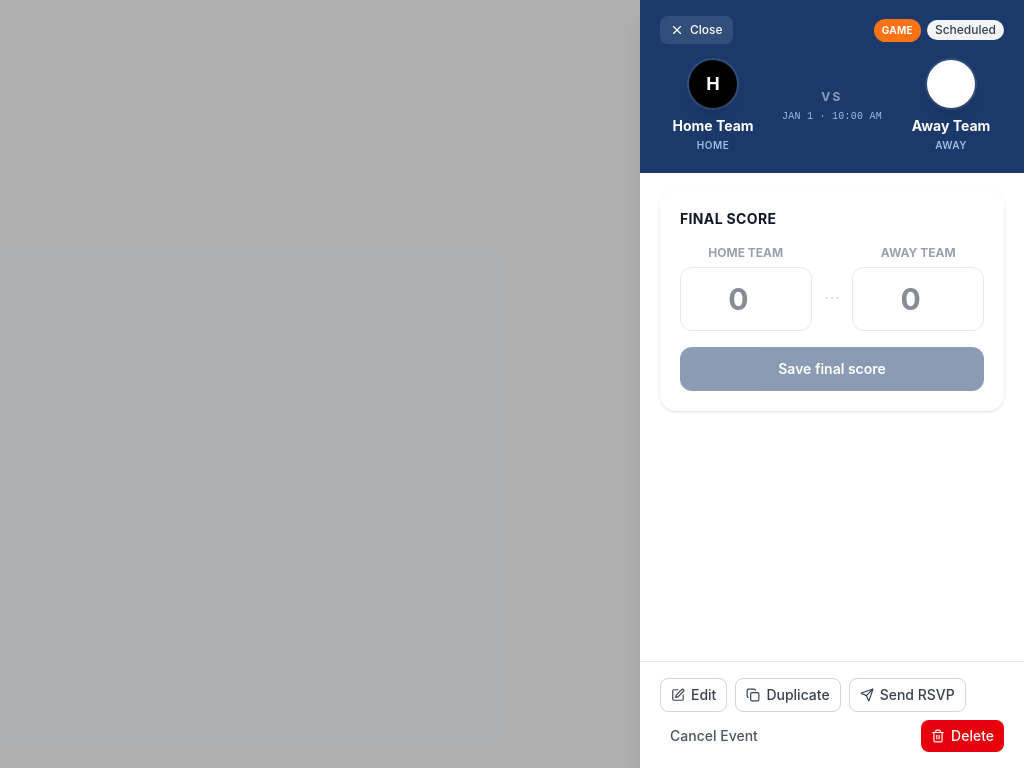
EventDetailPanel — recordResult error states › Save Score button is enabled once both score fields are filled
The image size is (1024, 768).
In the 1st number field with placeholder "0": (746, 299) left=680, top=267, right=812, bottom=331, type "2"
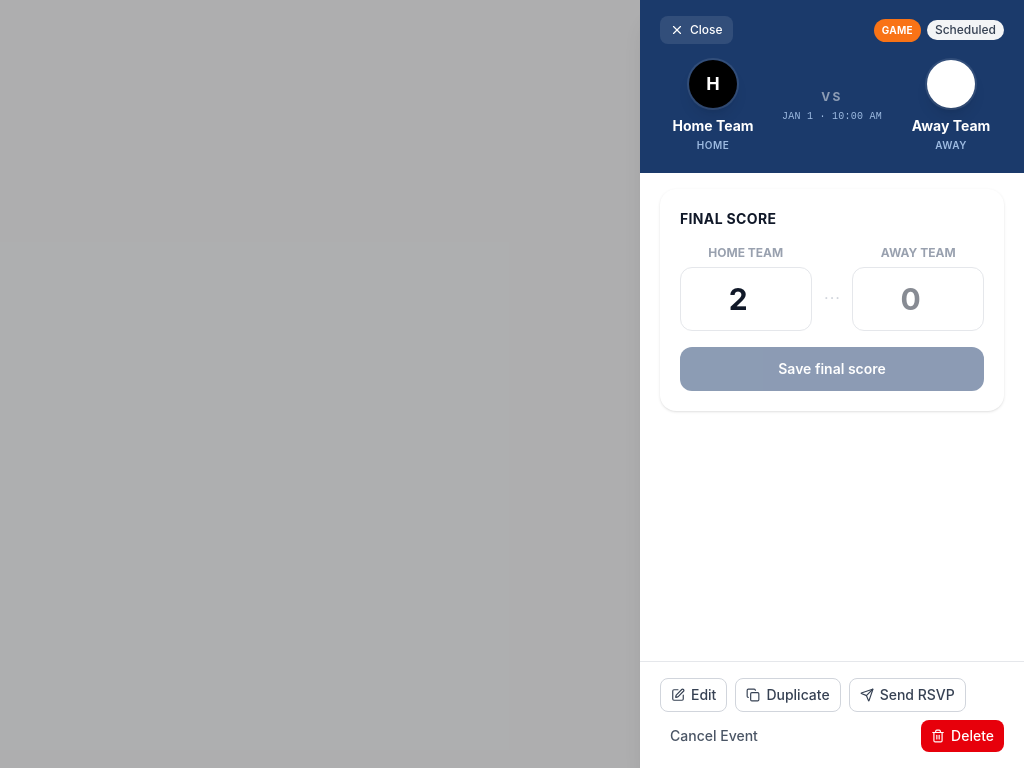
In the number field with placeholder "0": (918, 299) left=852, top=267, right=984, bottom=331, type "1"
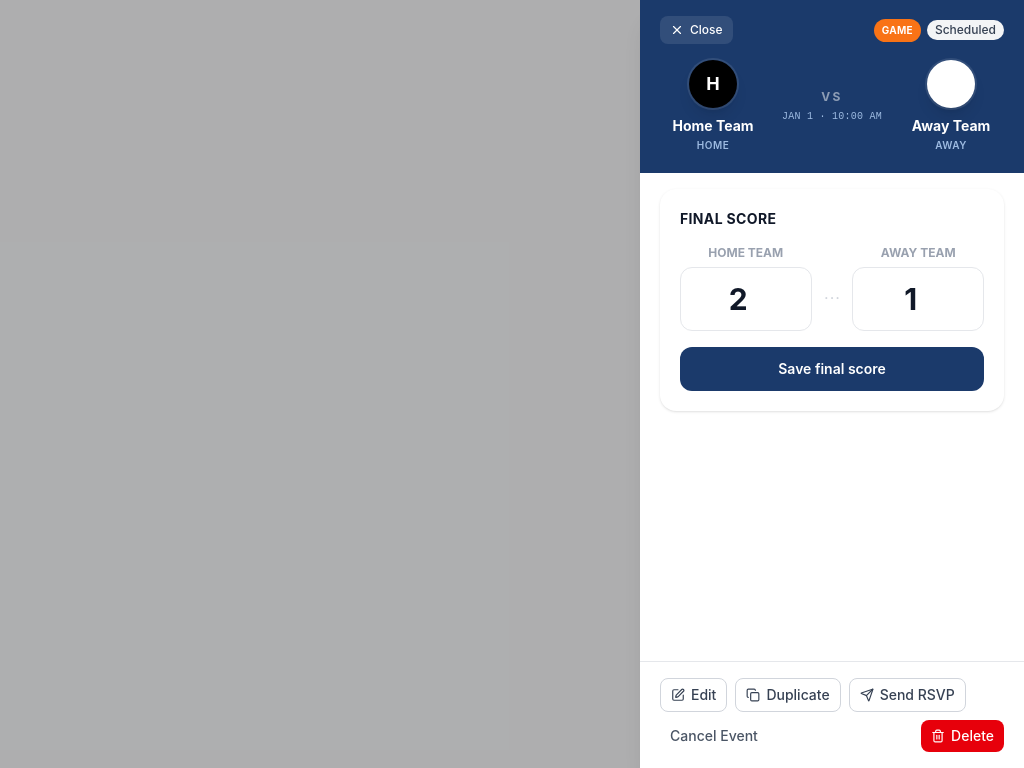
Result: the button "Save final score" is enabled at left=680, top=347, right=984, bottom=391
